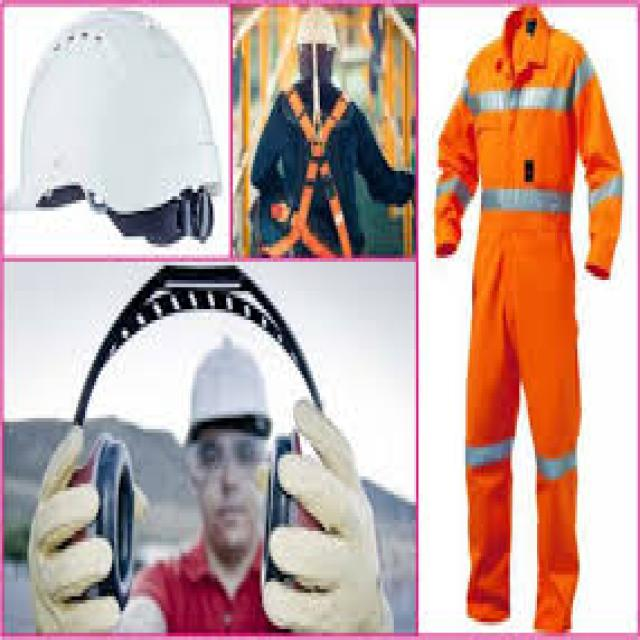vest: (434, 6, 624, 635)
